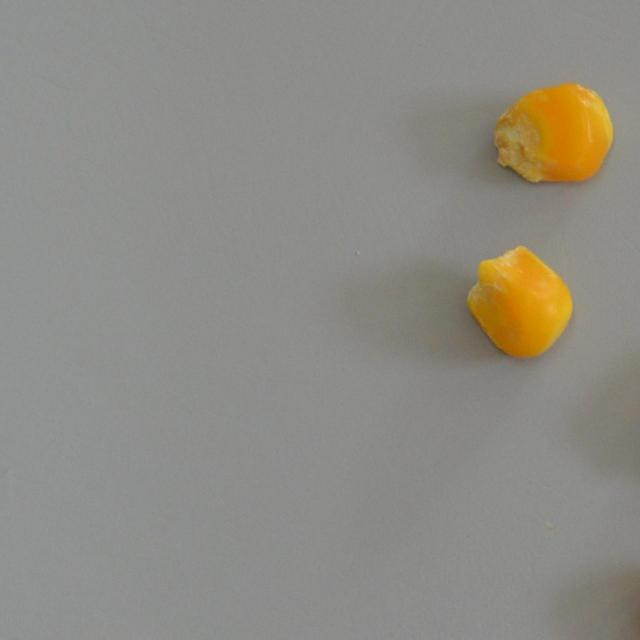no_desgerminado: (490, 80, 618, 186)
pelicula: (466, 242, 574, 361)
